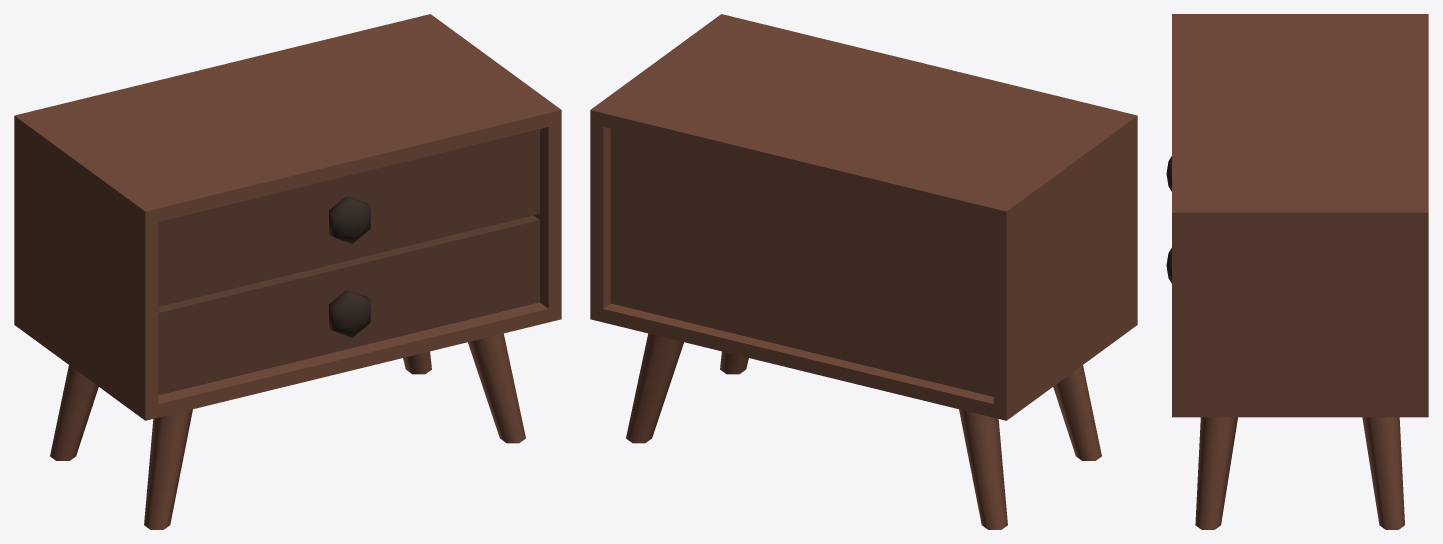
The model's file is Cabinet_01.fbx.
3 views of the same model, side by side, from view 1: azimuth 30°, elevation 25°; view 2: azimuth 150°, elevation 25°; view 3: azimuth 270°, elevation 25° (orthographic). The views are drawn at different scales.
Visible parts, largest first — view 1: Cabinet_01, Cabinet_01_Drawer_Lower, Cabinet_01_Drawer_Upper; view 2: Cabinet_01; view 3: Cabinet_01.
Part boxes in pixels (x1,y1,x2,y2): Cabinet_01: (14,14,561,529); Cabinet_01_Drawer_Lower: (158,215,539,395); Cabinet_01_Drawer_Upper: (158,129,539,306); Cabinet_01: (590,14,1137,529); Cabinet_01: (1172,14,1428,529).
Size of the model in its own units: 0.8524 by 0.6545 by 0.4753.
